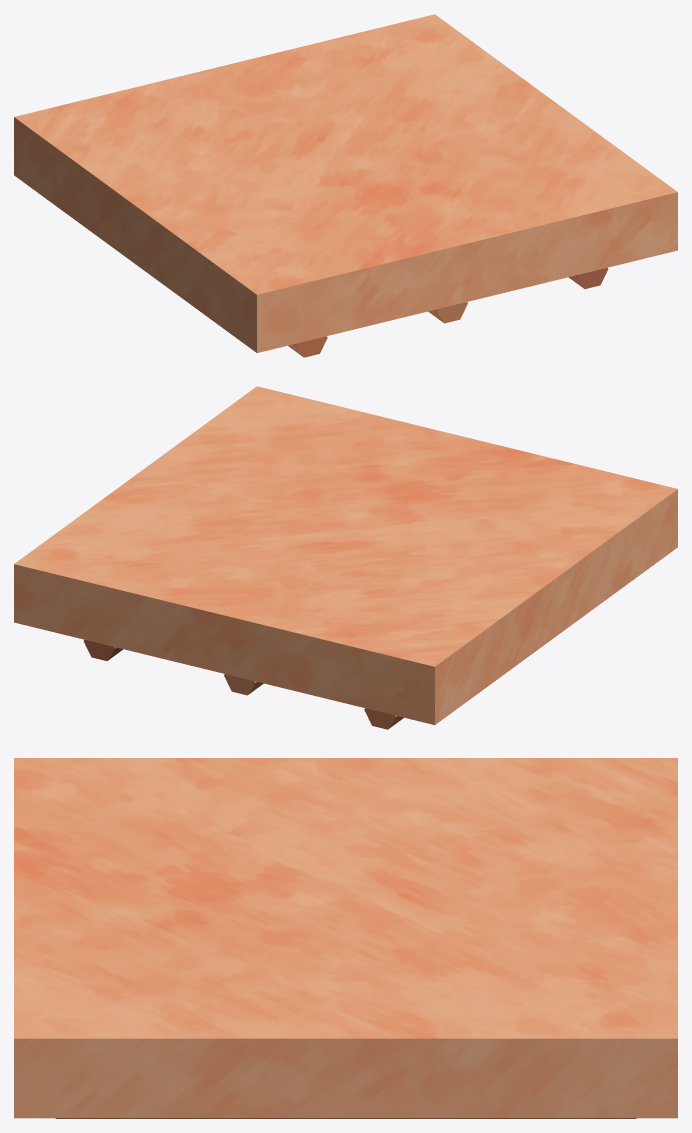
File: roof_low.fbx
3 views of the same model, one above another, from view 1: azimuth 30°, elevation 25°; view 2: azimuth 150°, elevation 25°; view 3: azimuth 270°, elevation 25° (orthographic). The views are drawn at different scales.
Parts seen in each view (by area): view 1: roof; view 2: roof; view 3: roof.
Boxes of the visible parts, <box> form: roof: <box>14,14,677,357</box>; roof: <box>14,386,677,729</box>; roof: <box>14,758,677,1118</box>.
Size of the model in its own units: 8 by 1.62 by 8.
1 material, 1 textured.
